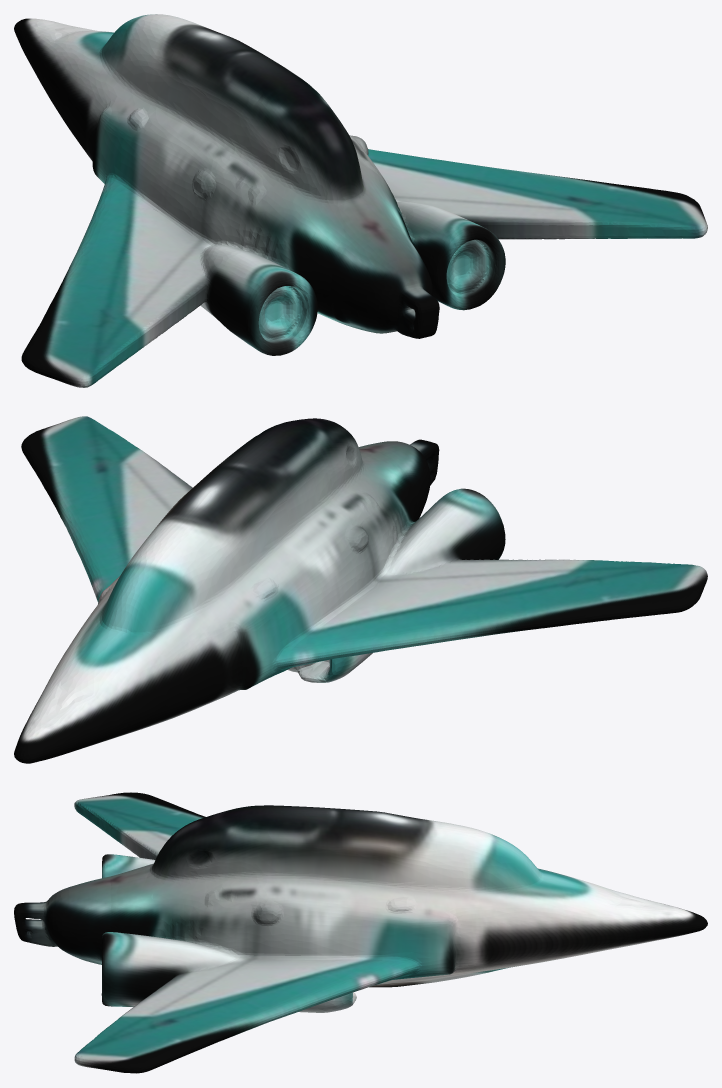
File: interceptor_tex.glb
3 views of the same model, one above another, from view 1: azimuth 30°, elevation 25°; view 2: azimuth 150°, elevation 25°; view 3: azimuth 270°, elevation 25° (orthographic). The views are drawn at different scales.
Visible parts, largest first — view 1: world; view 2: world; view 3: world.
Boxes of the visible parts, left/top/right/bottom form: world: left=14, top=14, right=707, bottom=387; world: left=14, top=416, right=707, bottom=763; world: left=14, top=792, right=707, bottom=1073.
Bounding box in the file's own units: 1.69 × 0.4849 × 1.79.
1 material, 1 textured.
